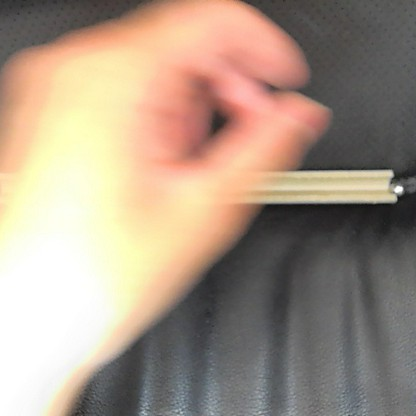ironball: (391, 173, 412, 197)
